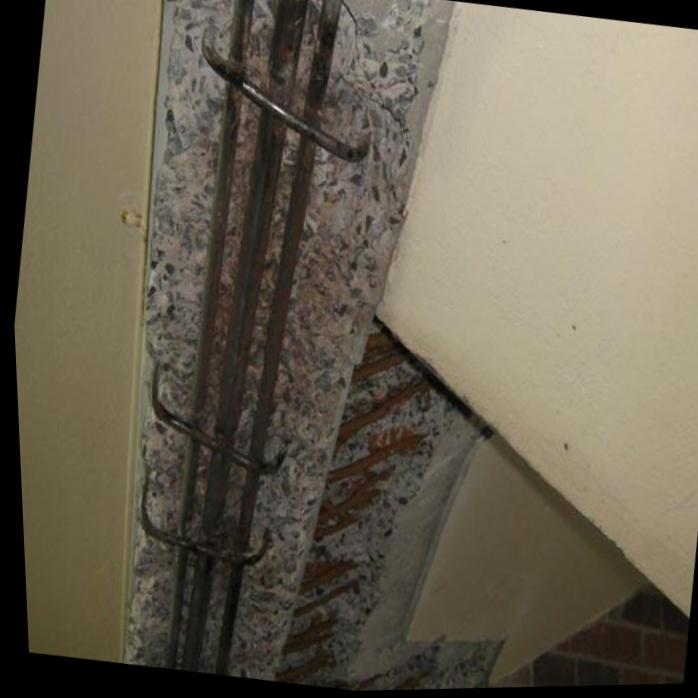damage: (109, 0, 497, 692)
